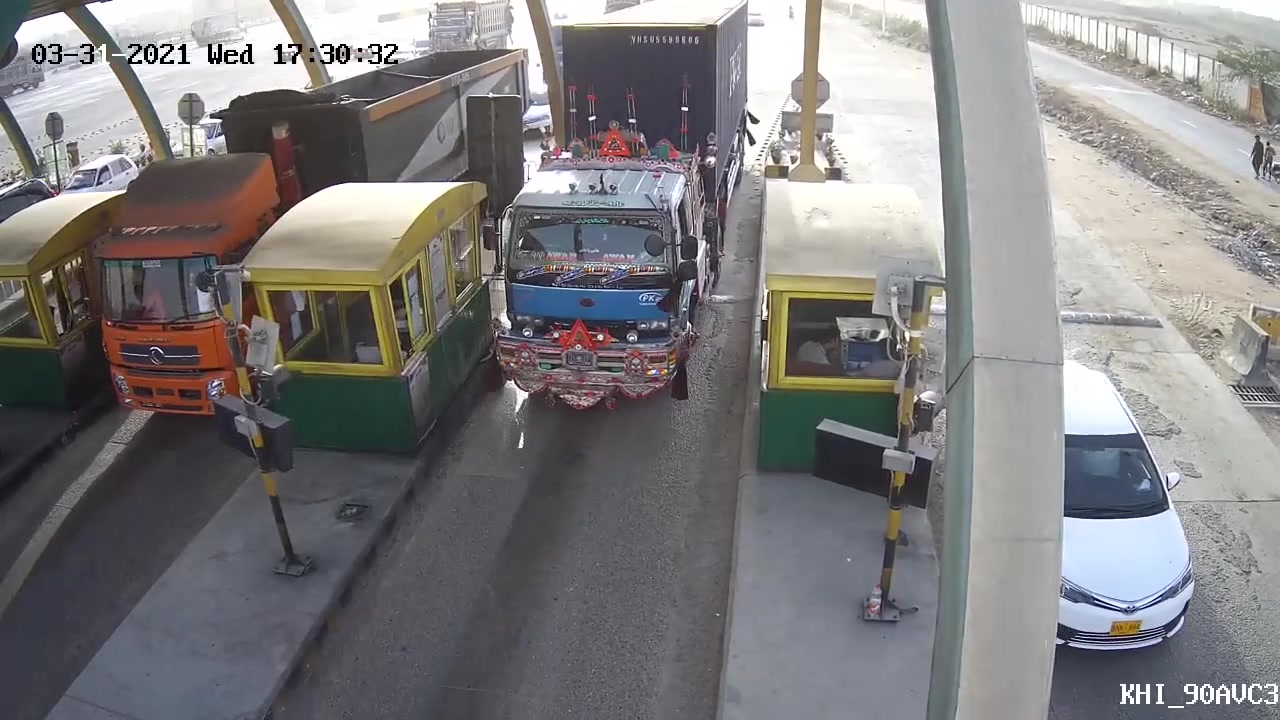F6: (493, 1, 757, 430)
